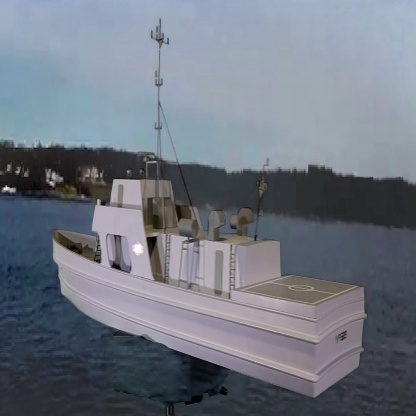YP689: (50, 17, 366, 400)
